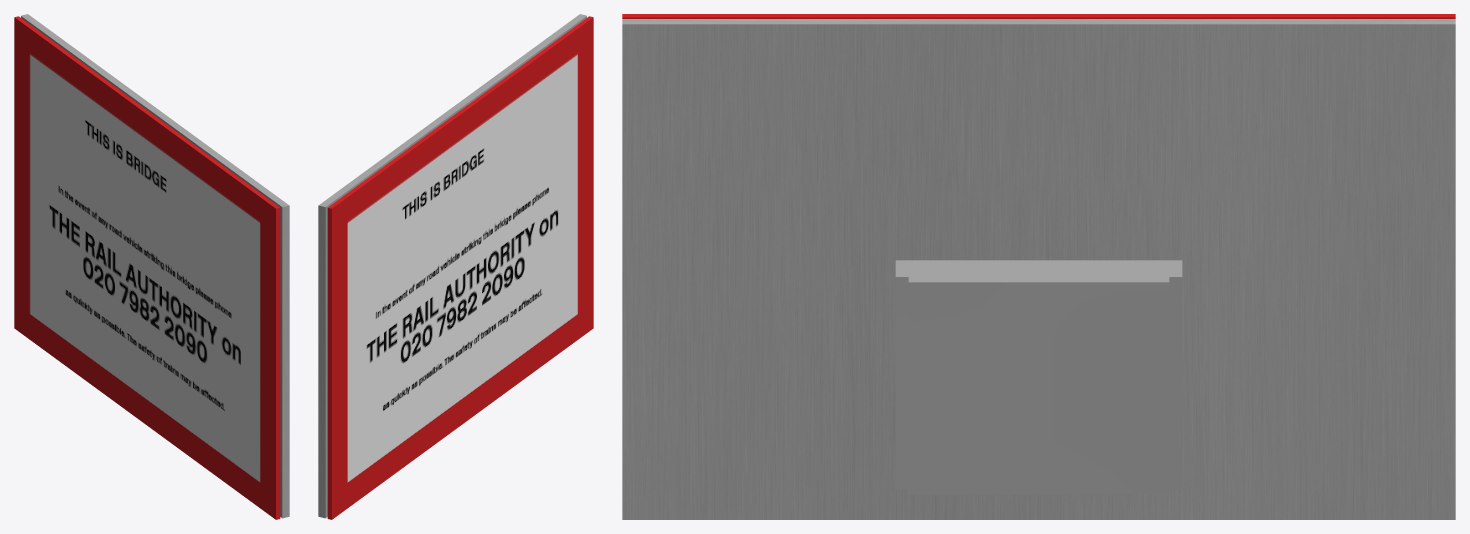
The model's file is bridge_authority_large.obj.
The picture shows the model from 3 angles, left to right: view 1: azimuth 30°, elevation 25°; view 2: azimuth 150°, elevation 25°; view 3: azimuth 270°, elevation 25°; orthographic projection. The views are drawn at different scales.
Parts seen in each view (by area): view 1: cube; view 2: cube; view 3: cube.
Boxes of the visible parts, x1,y1,x2,y2 form: cube: (14, 14, 289, 519); cube: (318, 14, 593, 519); cube: (622, 14, 1455, 519).
Size of the model in its own units: 0.0922 by 0.6562 by 1.
2 materials, 2 textured.
